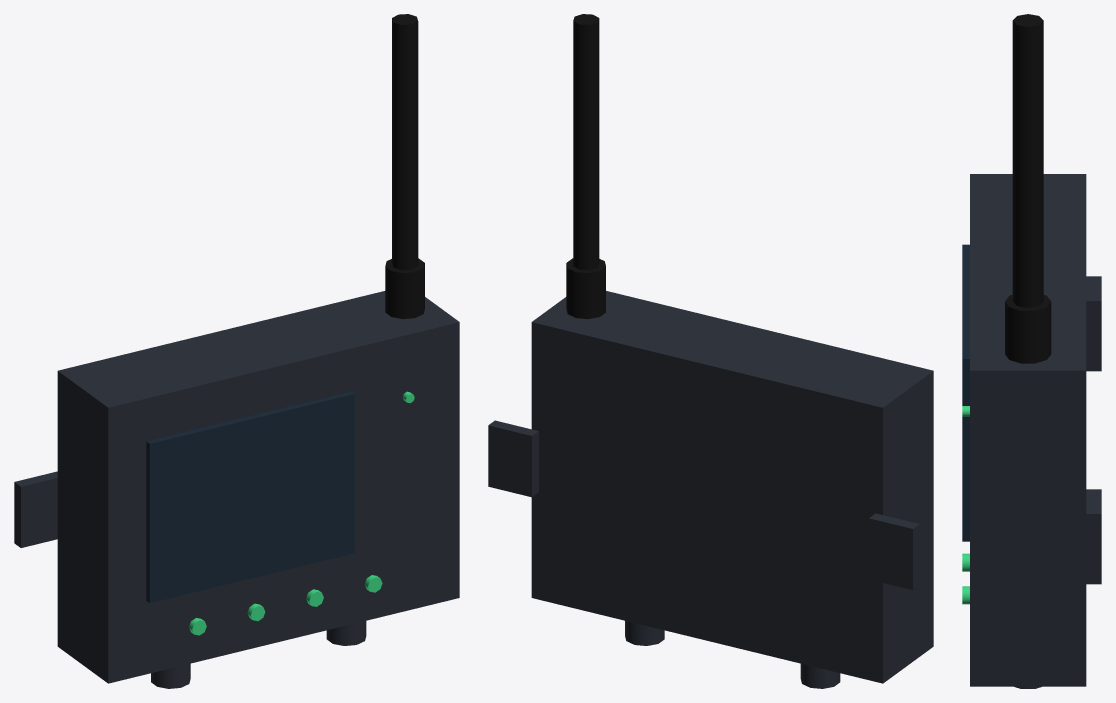
The model's file is hub-esp32-cyd.glb.
3 views of the same model, side by side, from view 1: azimuth 30°, elevation 25°; view 2: azimuth 150°, elevation 25°; view 3: azimuth 270°, elevation 25° (orthographic). The views are drawn at different scales.
Visible parts, largest first — view 1: hub_enclosure, hub_screen, hub_antenna, hub_ears, hub_gland_2, hub_gland_1; view 2: hub_enclosure, hub_antenna, hub_ears, hub_gland_1, hub_gland_2; view 3: hub_enclosure, hub_antenna, hub_ears, hub_screen.
Boxes of the visible parts, bbox=[...] form: hub_enclosure: bbox=[57, 291, 459, 683]; hub_screen: bbox=[146, 391, 354, 602]; hub_antenna: bbox=[385, 14, 424, 319]; hub_ears: bbox=[14, 471, 57, 547]; hub_gland_2: bbox=[326, 621, 366, 645]; hub_gland_1: bbox=[151, 663, 190, 688]; hub_enclosure: bbox=[531, 291, 933, 683]; hub_antenna: bbox=[566, 14, 605, 319]; hub_ears: bbox=[488, 420, 919, 590]; hub_gland_1: bbox=[800, 663, 840, 688]; hub_gland_2: bbox=[625, 621, 664, 645]; hub_enclosure: bbox=[970, 174, 1086, 686]; hub_antenna: bbox=[1005, 14, 1051, 363]; hub_ears: bbox=[1086, 276, 1101, 584]; hub_screen: bbox=[962, 244, 969, 541].
Size of the model in its own units: 0.145 by 0.197 by 0.036.
